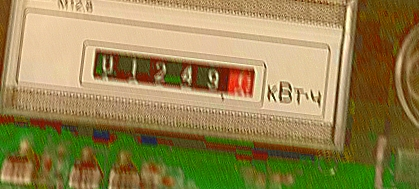0: (98, 52, 114, 74)
1: (125, 56, 139, 78)
2: (149, 60, 168, 83)
4: (178, 63, 194, 84)
7: (232, 66, 248, 88)
9: (204, 68, 219, 90)
screen: (74, 37, 270, 109)
